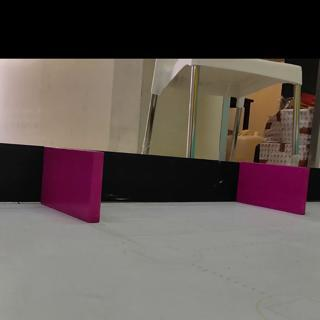xparking: (46, 151, 101, 224), (237, 171, 306, 218)
